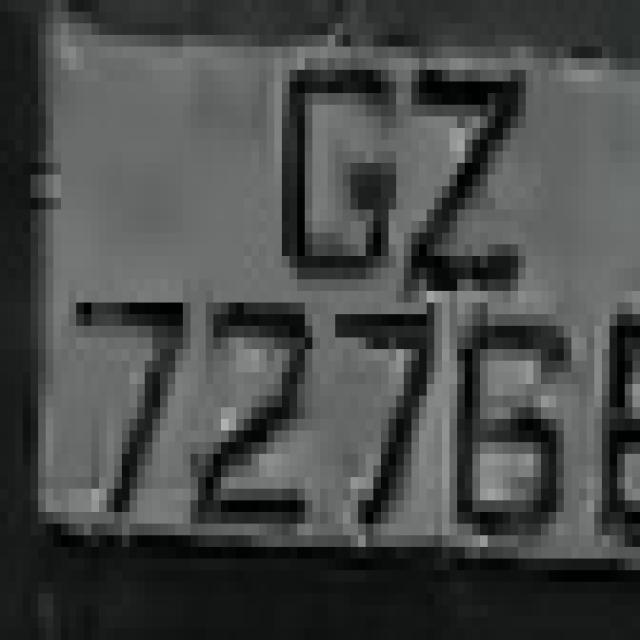2: (183, 244, 305, 536)
6: (426, 279, 586, 582)
7: (297, 279, 442, 559), (46, 268, 198, 535)
G: (259, 35, 396, 314)
Z: (388, 23, 548, 314)
